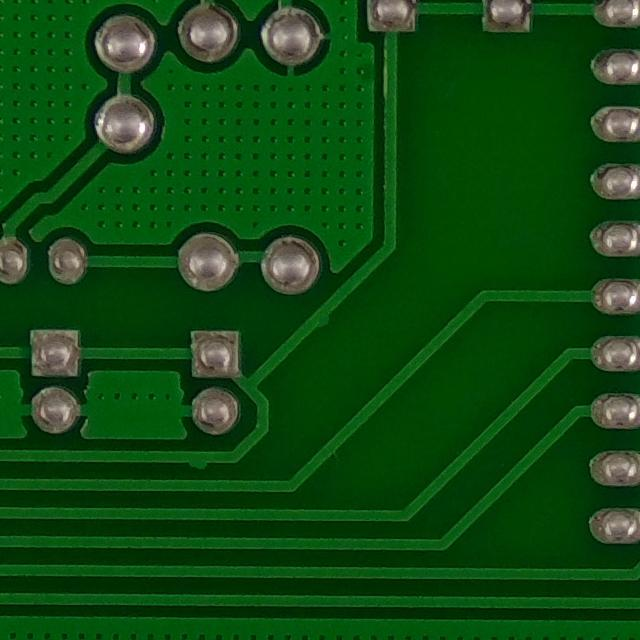spur: (305, 304, 335, 337)
